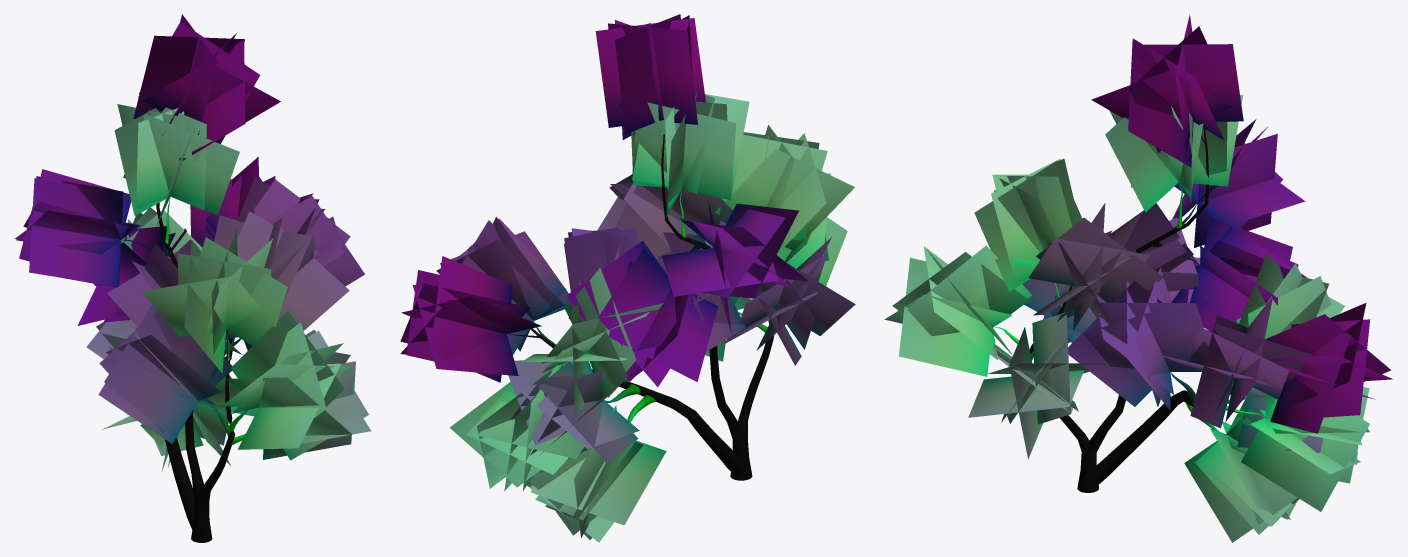
Rendered from URP_P6_Tree_7_LOD_0.fbx.
3 views of the same model, side by side, from view 1: azimuth 30°, elevation 25°; view 2: azimuth 150°, elevation 25°; view 3: azimuth 270°, elevation 25° (orthographic). The views are drawn at different scales.
Visible parts, largest first — view 1: Tree_7_LOD_0; view 2: Tree_7_LOD_0; view 3: Tree_7_LOD_0.
Part boxes in pixels (left/top/right/bottom): Tree_7_LOD_0: left=15, top=14, right=371, bottom=542; Tree_7_LOD_0: left=400, top=14, right=855, bottom=542; Tree_7_LOD_0: left=884, top=14, right=1392, bottom=542.
Bounding box in the file's own units: 617 × 843 × 793.
